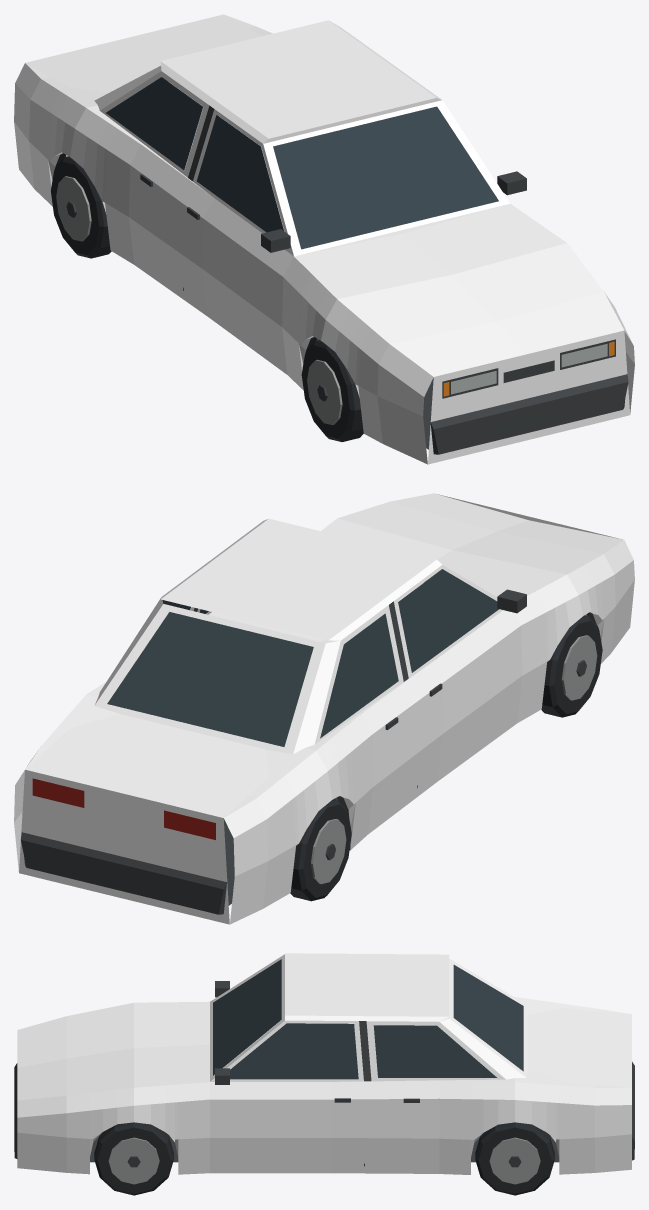
File: kanaya_zakuro_97.glb
3 views of the same model, one above another, from view 1: azimuth 30°, elevation 25°; view 2: azimuth 150°, elevation 25°; view 3: azimuth 270°, elevation 25° (orthographic). The views are drawn at different scales.
Parts seen in each view (by area): view 1: kanaya_zakuro_97; view 2: kanaya_zakuro_97; view 3: kanaya_zakuro_97.
Boxes of the visible parts, x1=… form: kanaya_zakuro_97: x1=14, y1=14, x2=634, y2=464; kanaya_zakuro_97: x1=14, y1=493, x2=634, y2=924; kanaya_zakuro_97: x1=14, y1=953, x2=634, y2=1195.
Size of the model in its own units: 1.84 by 1.46 by 4.97.
8 materials, 1 textured.
